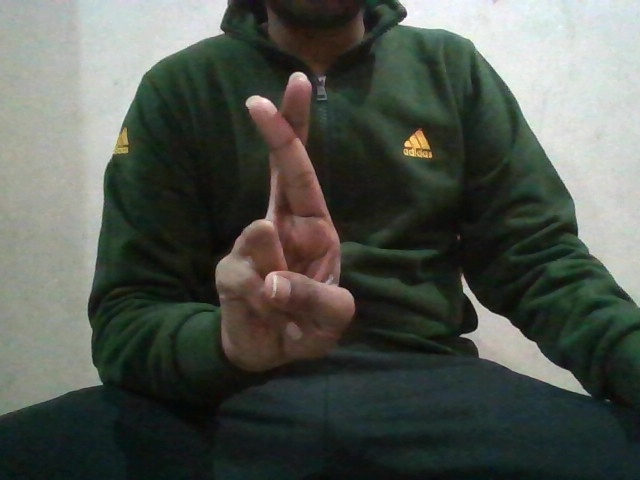R: (208, 69, 367, 357)
